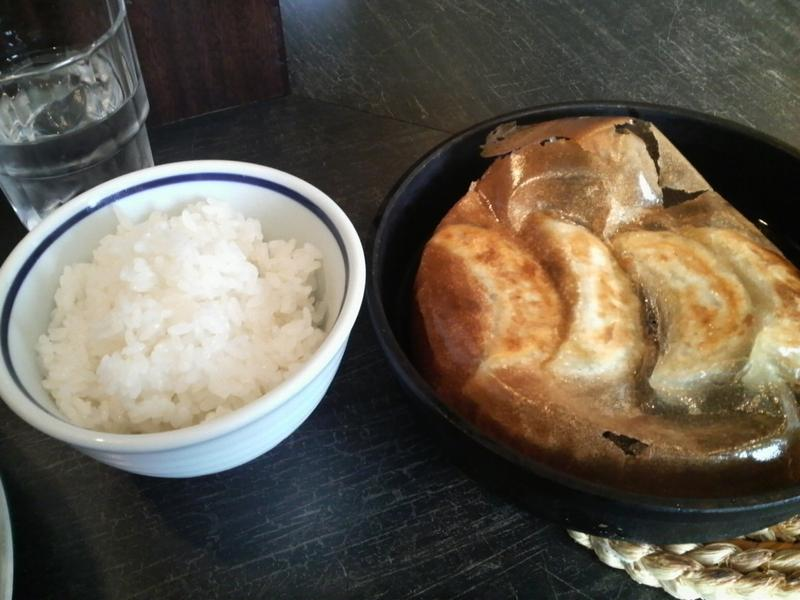plate: (366, 101, 799, 543)
rice: (38, 201, 323, 432)
